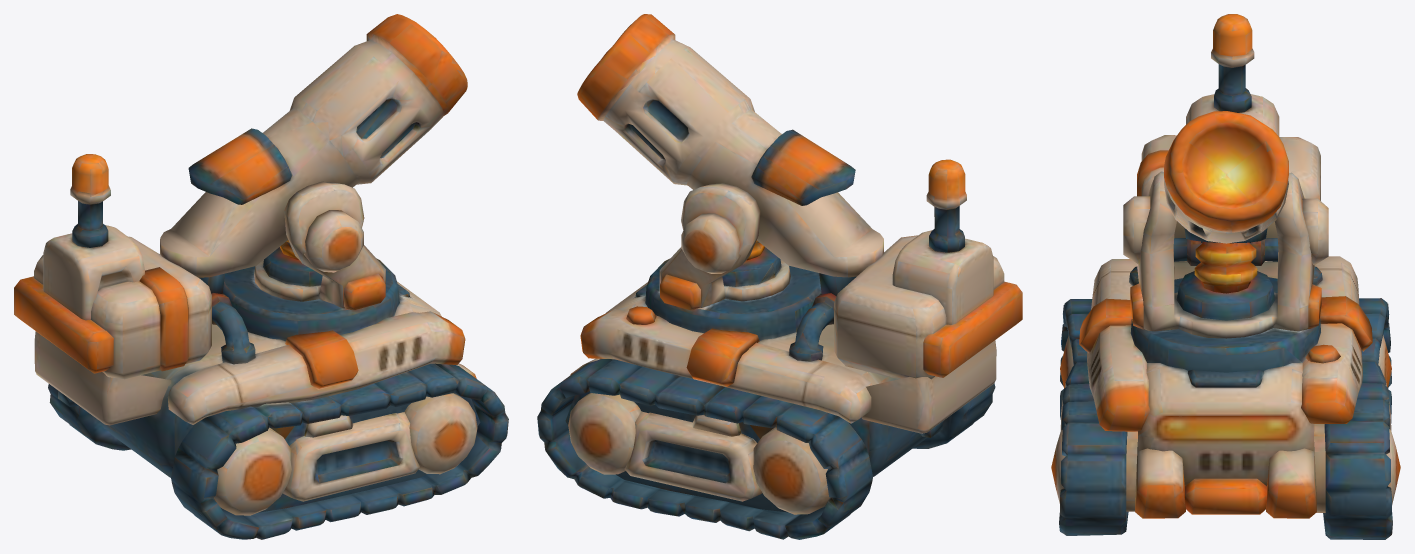
File: steel_artillery.glb
The picture shows the model from 3 angles, left to right: view 1: azimuth 30°, elevation 25°; view 2: azimuth 150°, elevation 25°; view 3: azimuth 270°, elevation 25°; orthographic projection. The views are drawn at different scales.
Visible parts, largest first — view 1: tripo_node_f50a58cd-2f4d-49b5-80a0-e772a273256b; view 2: tripo_node_f50a58cd-2f4d-49b5-80a0-e772a273256b; view 3: tripo_node_f50a58cd-2f4d-49b5-80a0-e772a273256b.
Part boxes in pixels (x1=…): tripo_node_f50a58cd-2f4d-49b5-80a0-e772a273256b: x1=14, y1=14, x2=508, y2=539; tripo_node_f50a58cd-2f4d-49b5-80a0-e772a273256b: x1=537, y1=14, x2=1022, y2=539; tripo_node_f50a58cd-2f4d-49b5-80a0-e772a273256b: x1=1051, y1=14, x2=1400, y2=539.
Bounding box in the file's own units: 0.998 × 0.998 × 0.709.
Materials: 1 (1 with a texture image).
